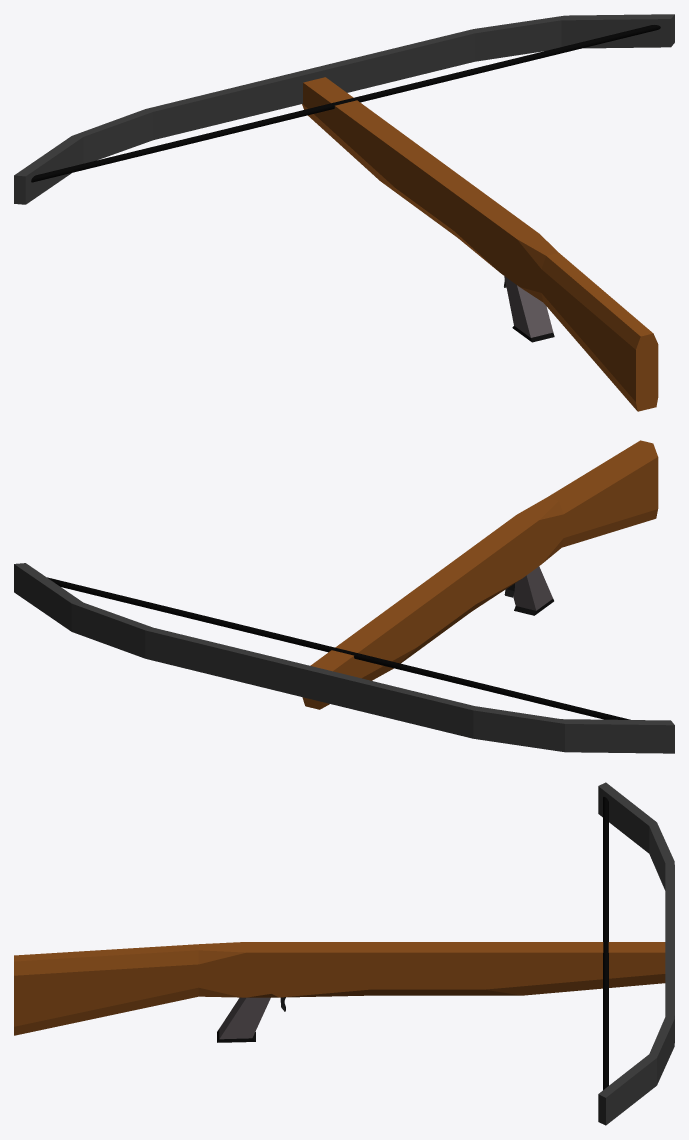
File: Crossbow.fbx
The picture shows the model from 3 angles, top to bottom: view 1: azimuth 30°, elevation 25°; view 2: azimuth 150°, elevation 25°; view 3: azimuth 270°, elevation 25°; orthographic projection. The views are drawn at different scales.
Parts seen in each view (by area): view 1: Cube.012; view 2: Cube.012; view 3: Cube.012.
Boxes of the visible parts, bbox=[...] form: Cube.012: bbox=[14, 14, 674, 411]; Cube.012: bbox=[14, 440, 674, 753]; Cube.012: bbox=[14, 782, 674, 1125].
Bounding box in the file's own units: 342 × 49.1 × 302.
